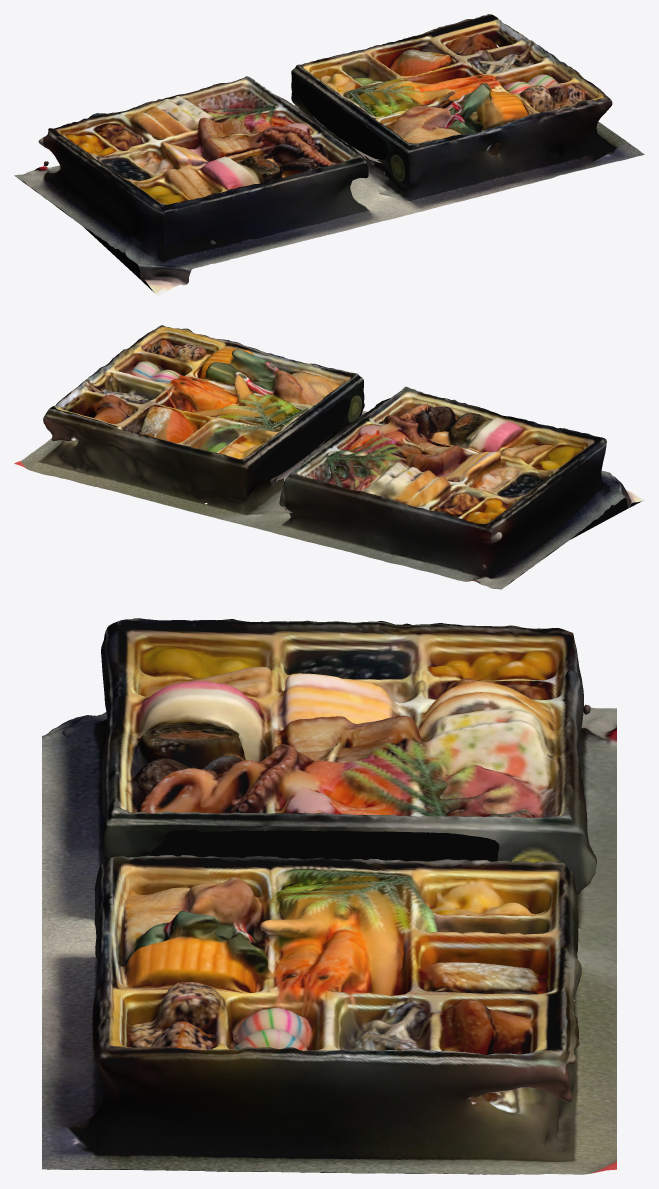
Rendered from osechi.fbx.
3 renders of one model, top to bottom at view 1: azimuth 30°, elevation 25°; view 2: azimuth 150°, elevation 25°; view 3: azimuth 270°, elevation 25°, orthographic. The views are drawn at different scales.
Visible parts, largest first — view 1: osechi; view 2: osechi; view 3: osechi.
Part boxes in pixels (x1,y1,x2,y2): osechi: (14, 14, 644, 296); osechi: (14, 325, 644, 589); osechi: (42, 618, 616, 1174).
Bounding box in the file's own units: 477 × 85.27 × 244.
4 materials, 4 textured.
